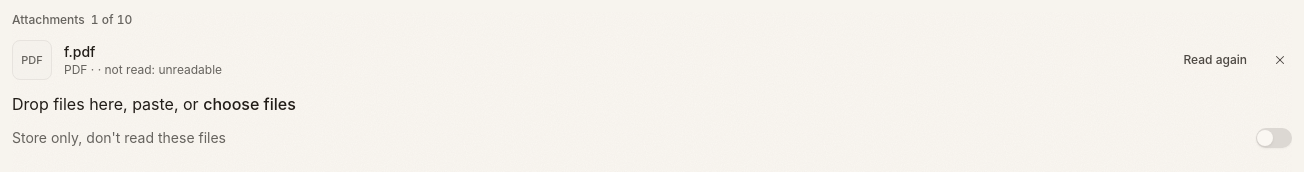
PlannerTaskAttachments › asks for a read again, shows the file reading meanwhile, and takes the server's answer
Later steps or results of the test are not shown.
Click the button "Read again" at (1215, 60), box [1174,48,1256,72]
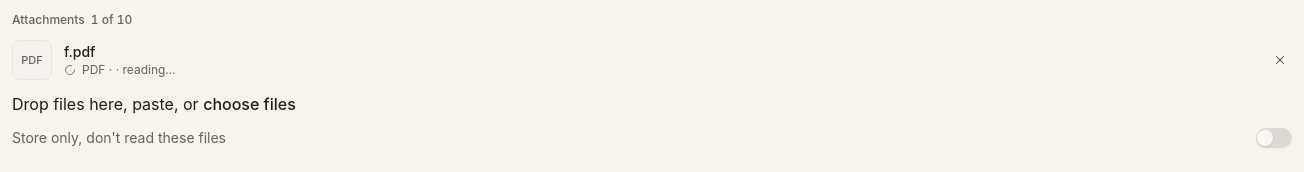
expect the list item with test id "planner-attachment" shows "reading…": met, box [122,62,176,77]
